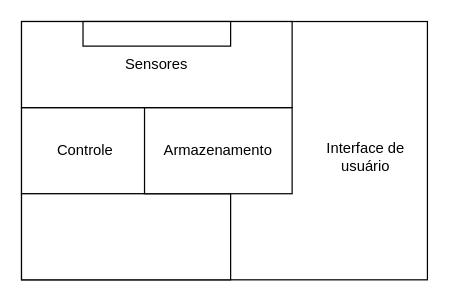
The diagram is 449 pixels wide and 301 high, and some of its shapes have lost their labels. The centre of each missing label's shape, as x and y in pixels:
"Conexões E/S" goes at (156,33).
"Fonte de alimentação" goes at (125,236).
